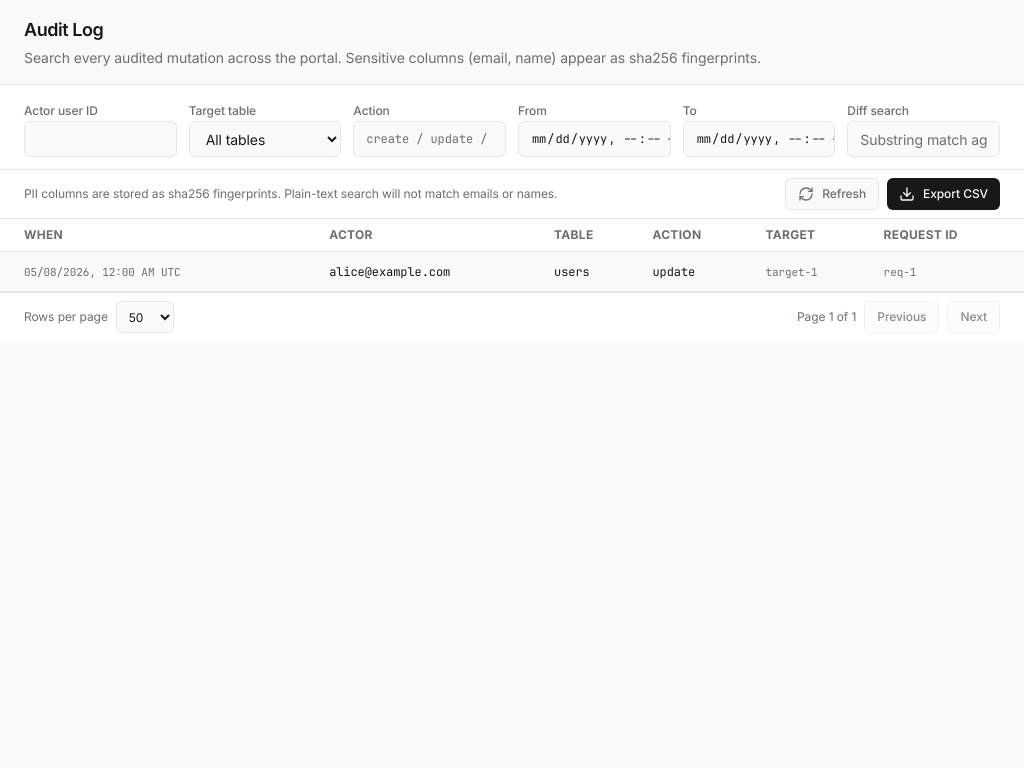
it: AdminAuditPage › renders sha256 fingerprint values as a truncated pill in the diff
Click the row with test id "admin-audit-row" at (512, 272), box [0,252,1023,292]
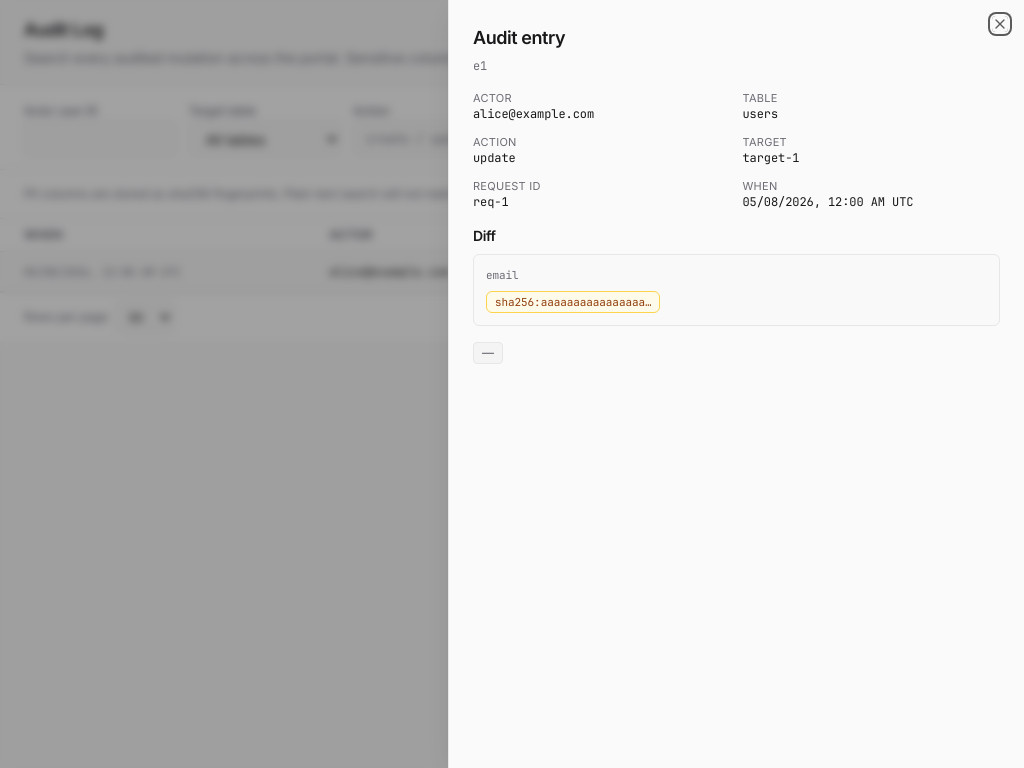
Expected: the text with test id "admin-audit-sha256-pill" is shown, [486,290,660,313]
